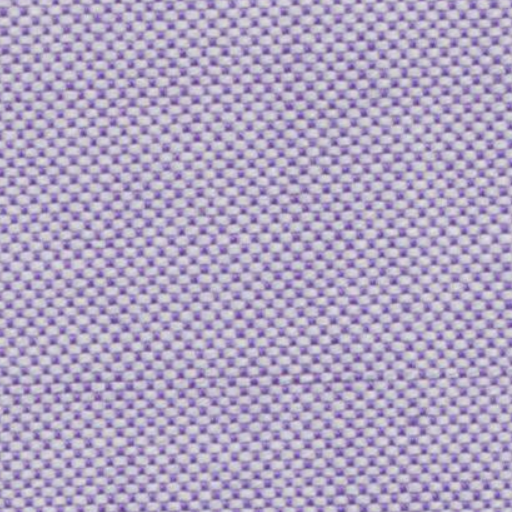TuoSha: (13, 359, 500, 427)
